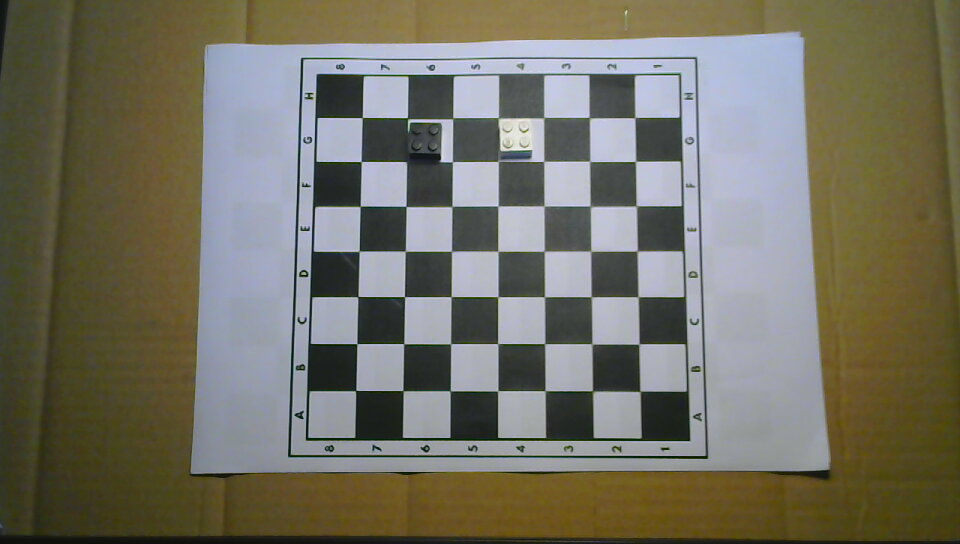bp: (408, 120, 443, 162)
wp: (497, 117, 533, 159)
